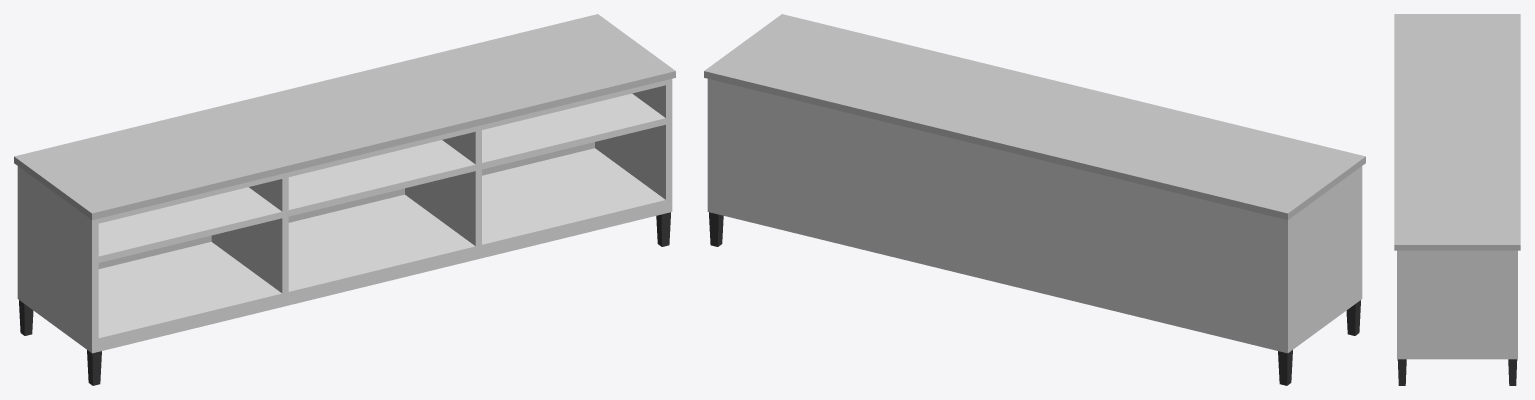
The model's file is TV_Table2_C1.fbx.
3 renders of one model, left to right at view 1: azimuth 30°, elevation 25°; view 2: azimuth 150°, elevation 25°; view 3: azimuth 270°, elevation 25°, orthographic. The views are drawn at different scales.
Parts seen in each view (by area): view 1: TV_Table2_C1; view 2: TV_Table2_C1; view 3: TV_Table2_C1.
Part boxes in pixels (left/top/right/bottom): TV_Table2_C1: left=14, top=14, right=675, bottom=385; TV_Table2_C1: left=704, top=14, right=1365, bottom=385; TV_Table2_C1: left=1394, top=14, right=1520, bottom=385.
Size of the model in its own units: 181 by 52 by 41.9.
